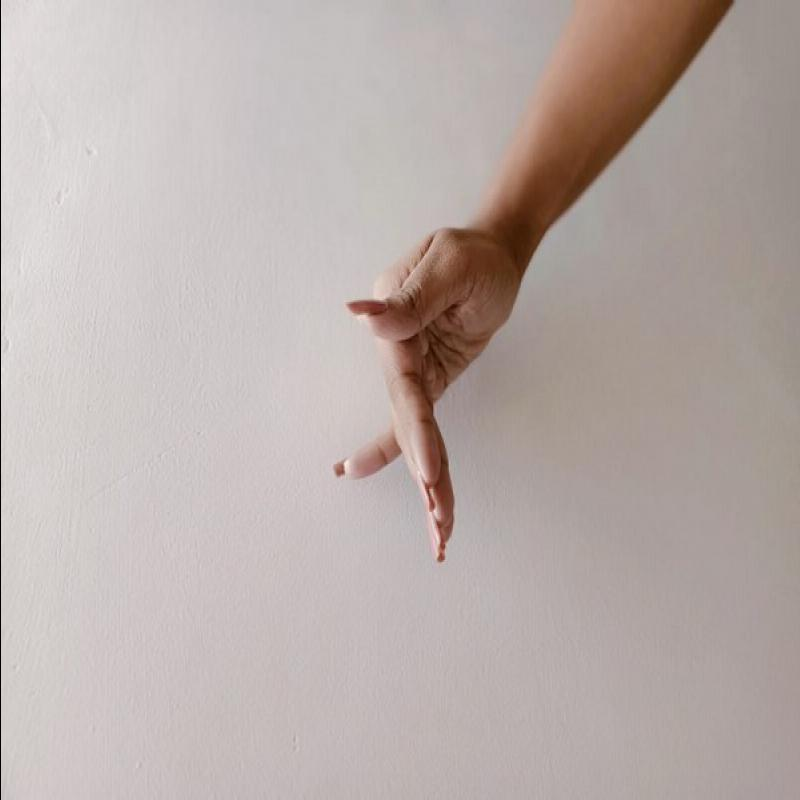Kartharee Mukham: (313, 221, 537, 595)
